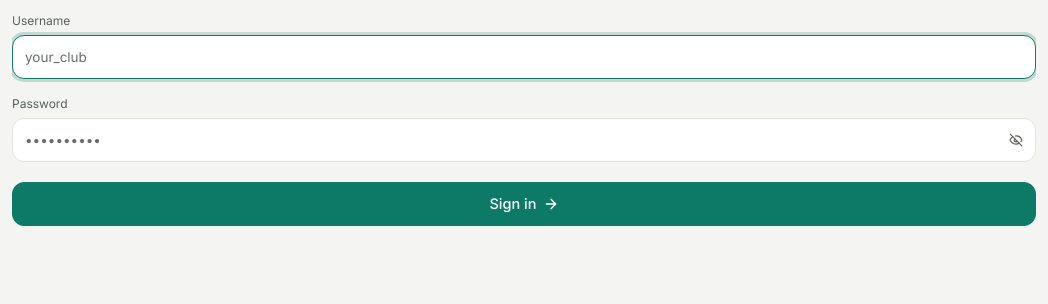
Test: signing in › shows the lockout message from the door
Type "locked" into the field labelled "Username" at (524, 57), box top-left (12, 35), bottom-right (1036, 79)
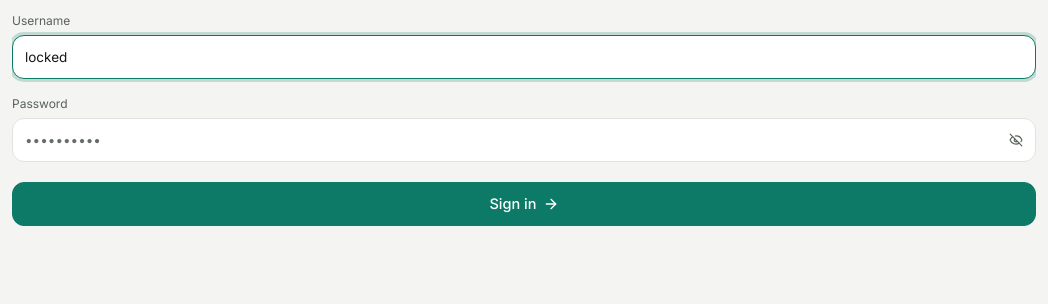
Type "right" into the password field labelled "Password" at (524, 140), box top-left (12, 118), bottom-right (1036, 162)
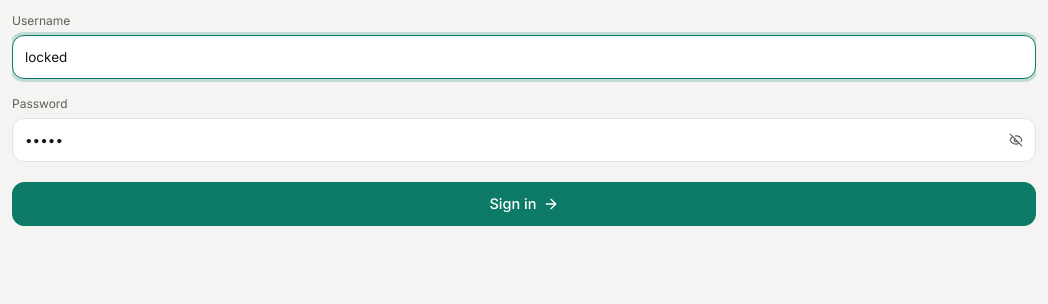
Click the button "Sign in" at (524, 204), box top-left (12, 182), bottom-right (1036, 226)
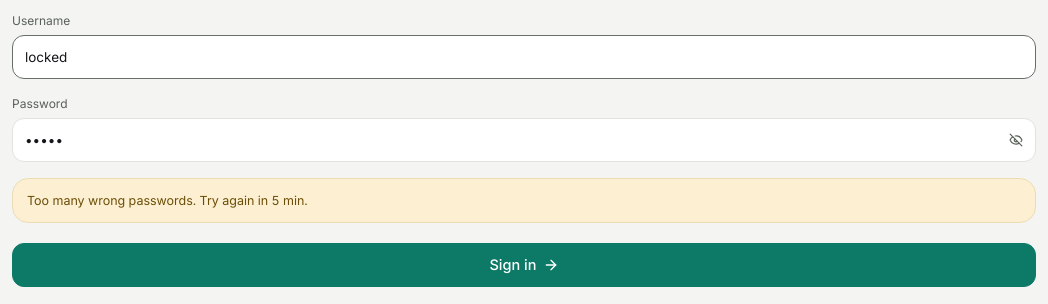
Expected: the message reads "Too many wrong passwords. Try again in 5 min.", top-left (27, 193), bottom-right (308, 208)
